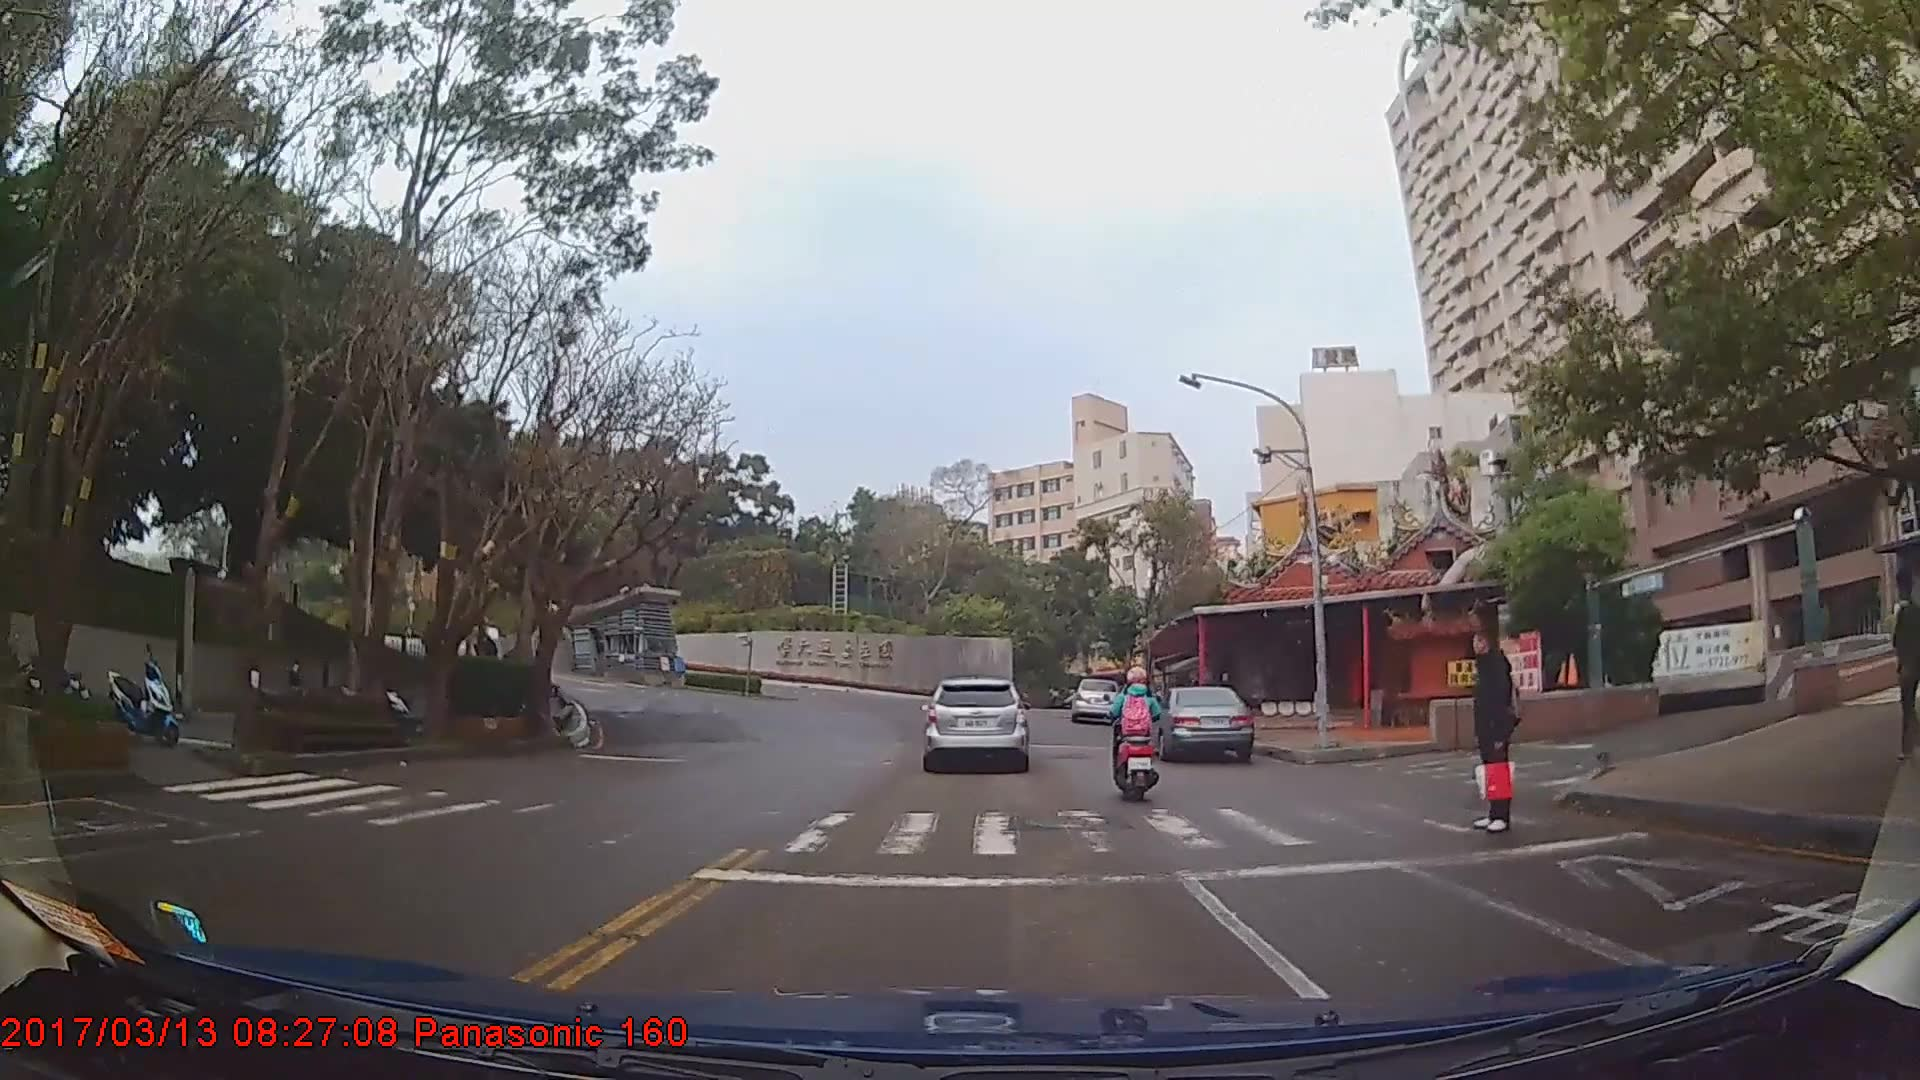pedestrian: (1470, 622, 1522, 832)
rider: (1108, 666, 1169, 808)
vehicle: (923, 670, 1027, 768), (1144, 684, 1252, 762), (1069, 675, 1119, 722)
